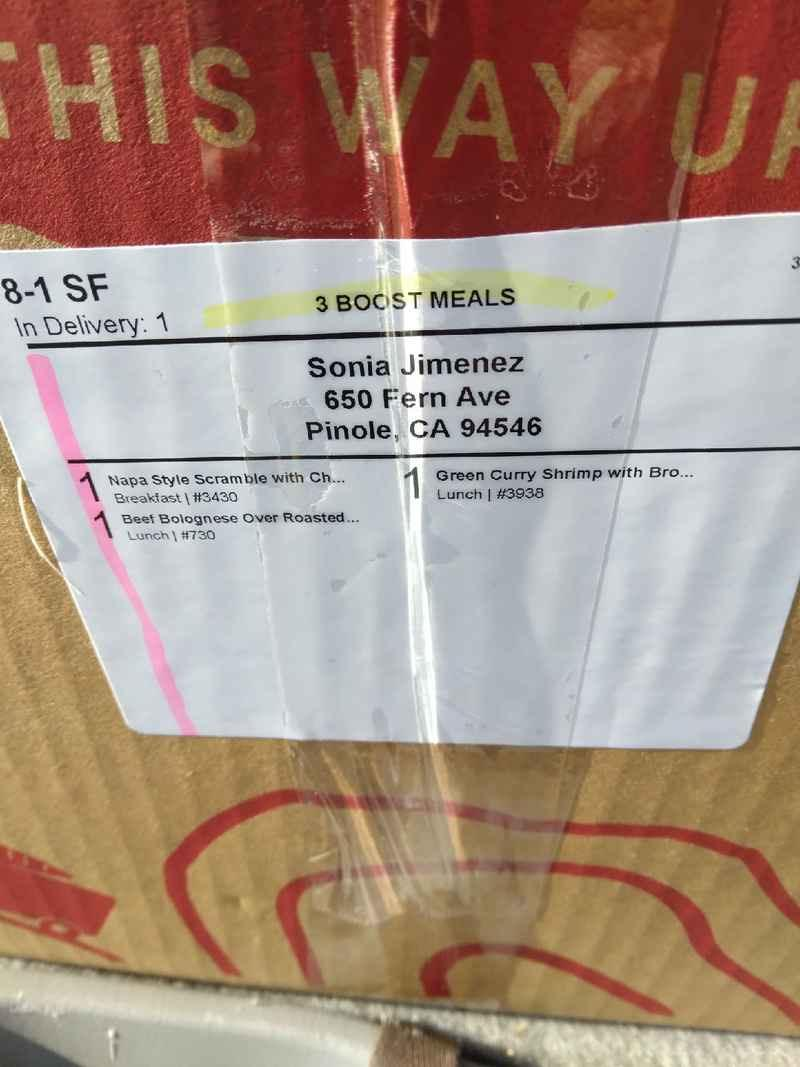package: (0, 0, 800, 1058)
